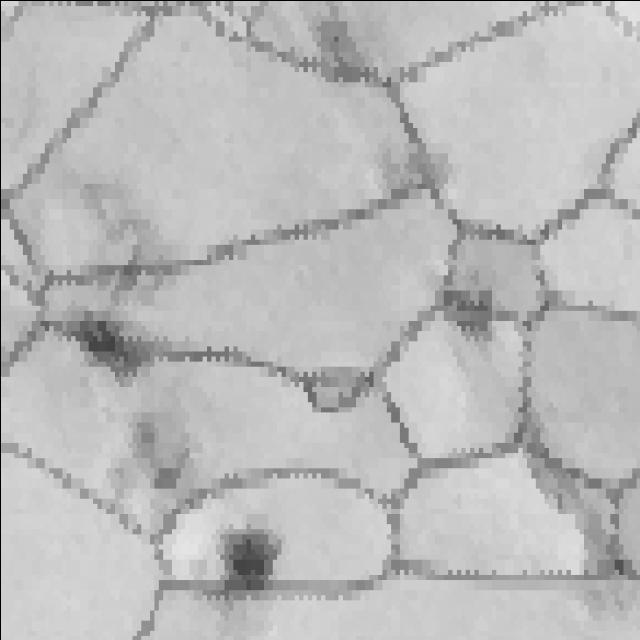good_void: (88, 180, 177, 304), (100, 415, 191, 505), (305, 13, 381, 94), (378, 130, 460, 203), (77, 314, 151, 386), (523, 440, 588, 518), (428, 274, 498, 346), (216, 524, 281, 597), (604, 547, 635, 583)
